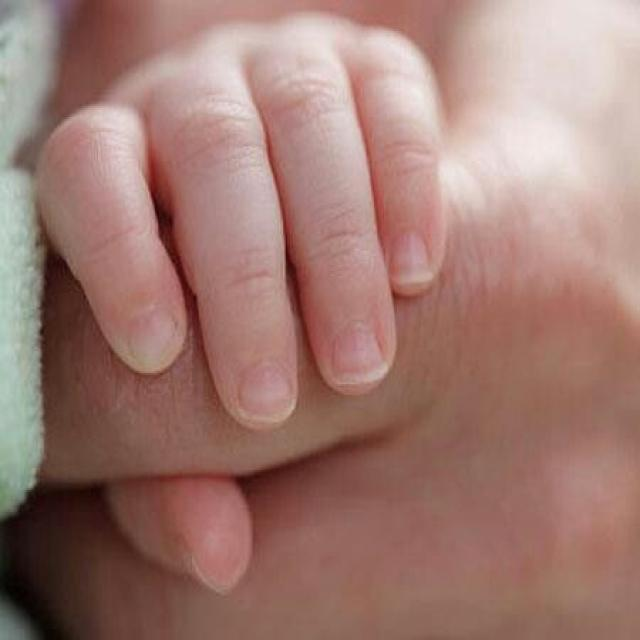Fingernail: (333, 320, 390, 384), (241, 363, 291, 421), (389, 228, 433, 284), (127, 308, 173, 360)
